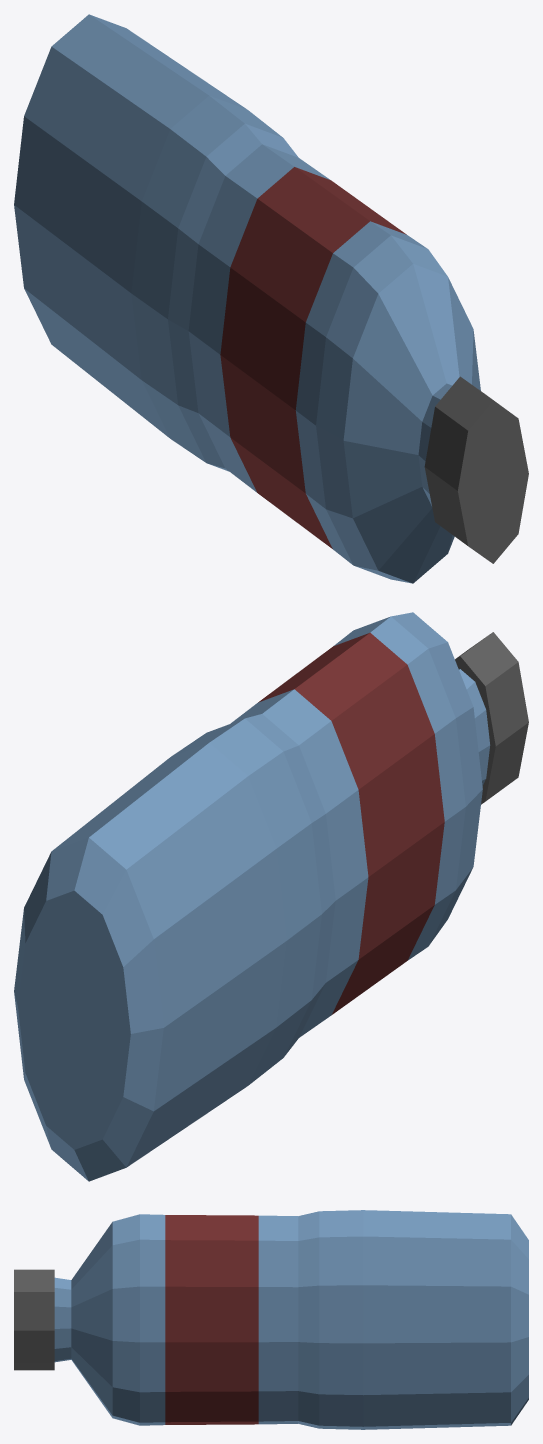
File: SM_BottlePlasticD.glb
The picture shows the model from 3 angles, top to bottom: view 1: azimuth 30°, elevation 25°; view 2: azimuth 150°, elevation 25°; view 3: azimuth 270°, elevation 25°; orthographic projection. The views are drawn at different scales.
Parts seen in each view (by area): view 1: part_00, part_01, part_02; view 2: part_00, part_01, part_02; view 3: part_00, part_01, part_02.
Boxes of the visible parts, x1,y1,x2,y2 form: part_00: (14,14,480,583); part_01: (220,167,406,548); part_02: (424,376,528,563); part_00: (14,612,490,1181); part_01: (258,632,444,1014); part_02: (455,632,528,804); part_00: (54,1210,528,1429); part_01: (165,1215,258,1424); part_02: (14,1269,54,1370).
Size of the model in its own units: 0.0608 by 0.1334 by 0.2833.
